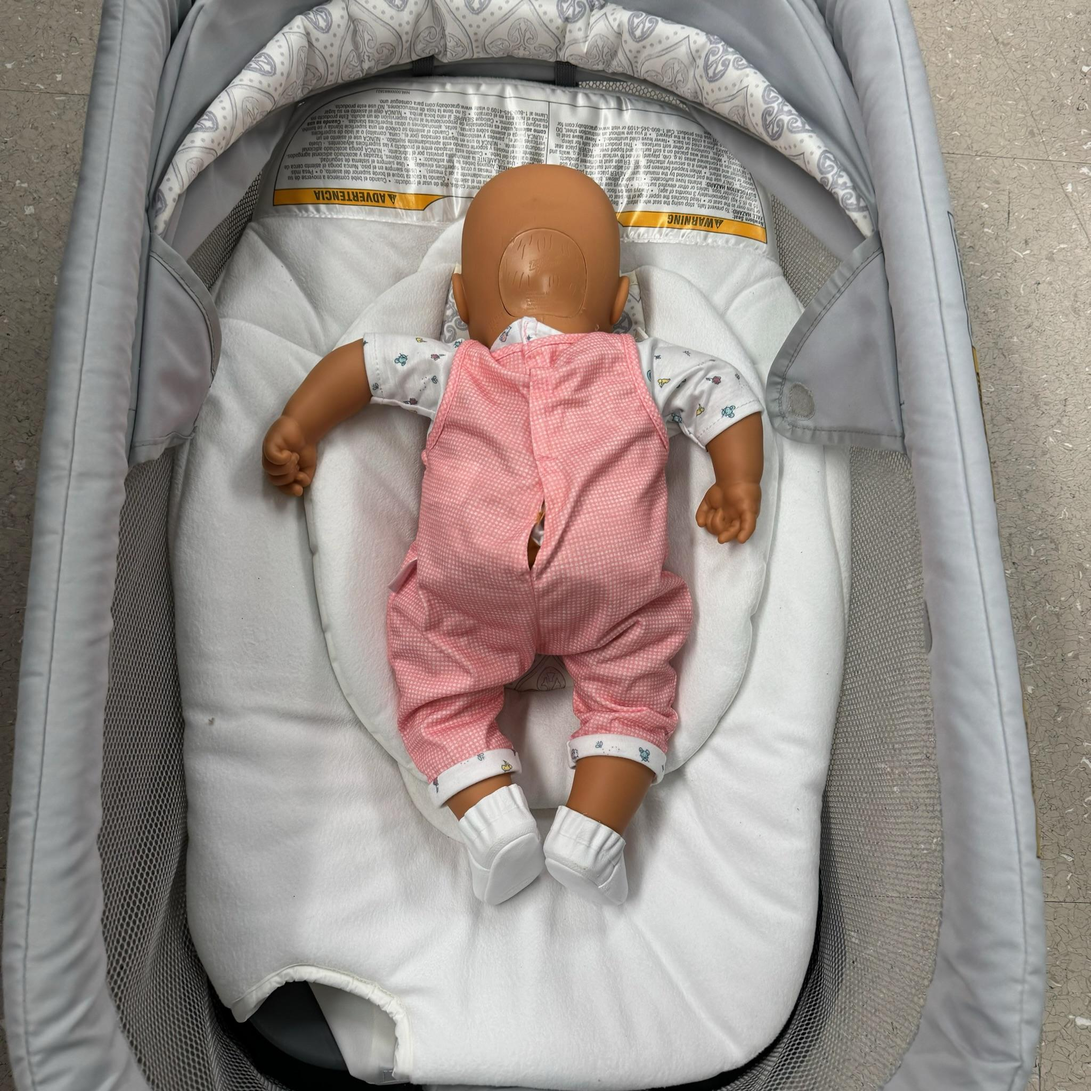baby: (268, 143, 798, 927)
